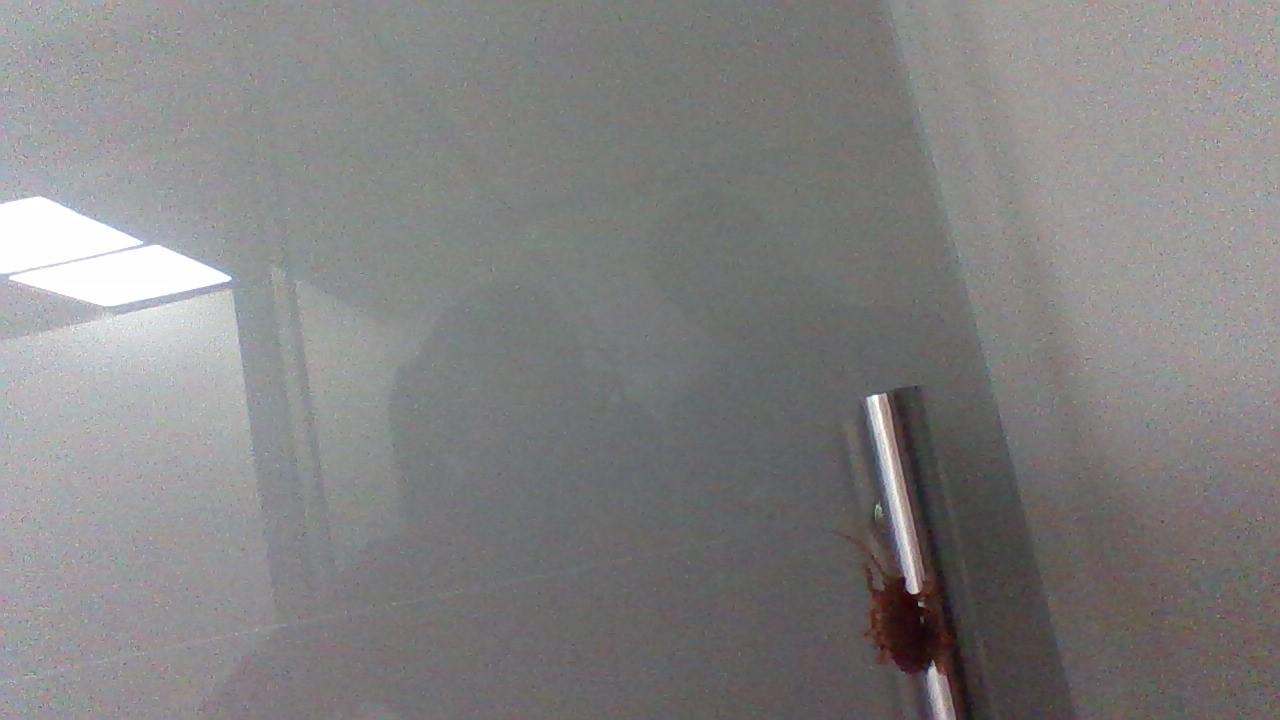cockroach: (826, 510, 961, 696)
